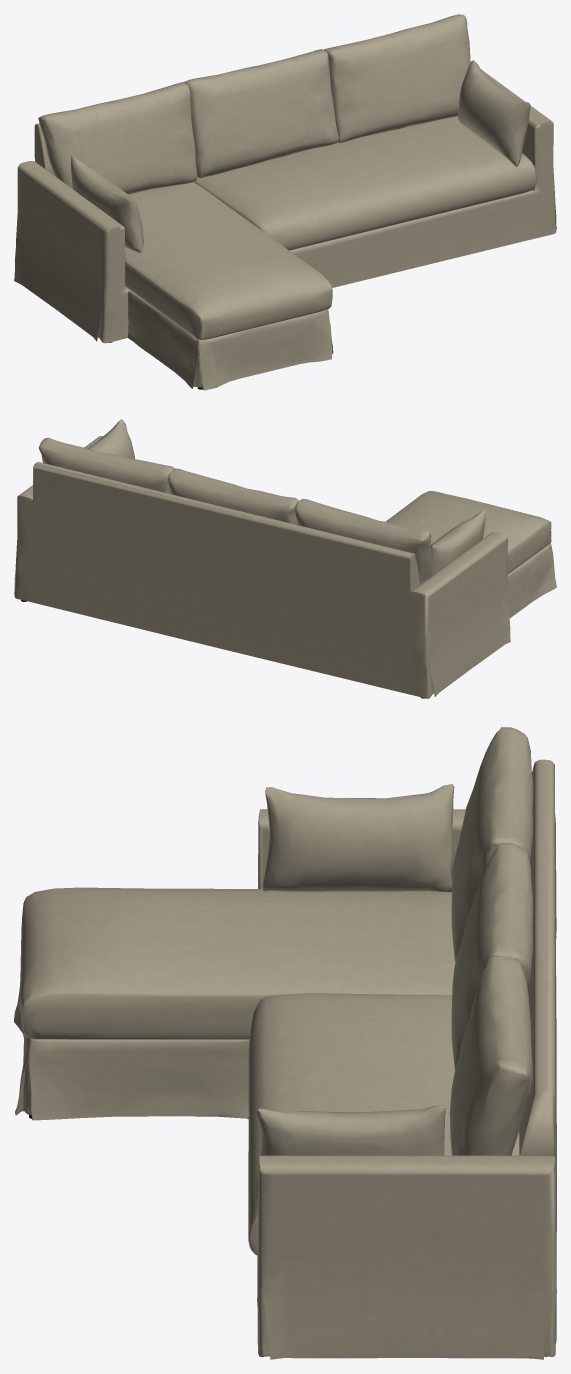
Rendered from hyltarp_sofa_3o_z_szezlongiem_lewy_29515008.glb.
3 renders of one model, top to bottom at view 1: azimuth 30°, elevation 25°; view 2: azimuth 150°, elevation 25°; view 3: azimuth 270°, elevation 25°, orthographic. The views are drawn at different scales.
Parts seen in each view (by area): view 1: hyltarp_sofa_3o_z_szezlongiem_lewy_29515008; view 2: hyltarp_sofa_3o_z_szezlongiem_lewy_29515008; view 3: hyltarp_sofa_3o_z_szezlongiem_lewy_29515008.
Boxes of the visible parts, box(x1,y1,x2,y2) form: hyltarp_sofa_3o_z_szezlongiem_lewy_29515008: box(14, 14, 556, 390); hyltarp_sofa_3o_z_szezlongiem_lewy_29515008: box(14, 419, 556, 698); hyltarp_sofa_3o_z_szezlongiem_lewy_29515008: box(14, 727, 556, 1359).
Size of the model in its own units: 2.62 by 0.9295 by 1.62.
Materials: 1 (1 with a texture image).
